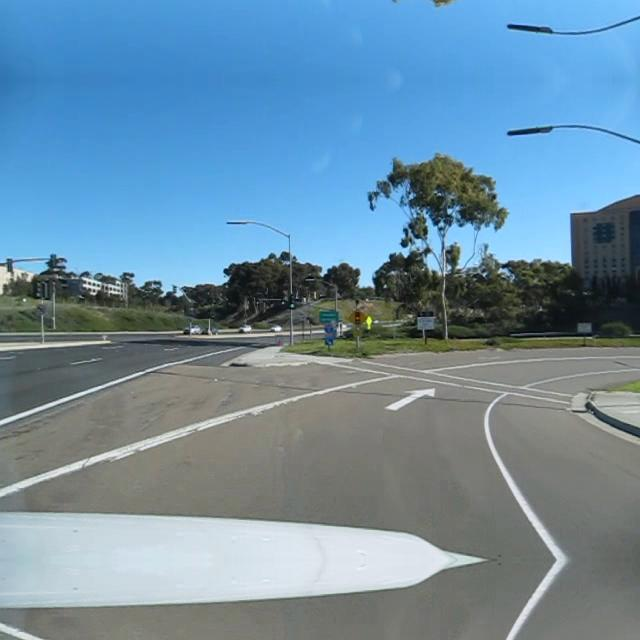signalAhead: (346, 306, 368, 328)
